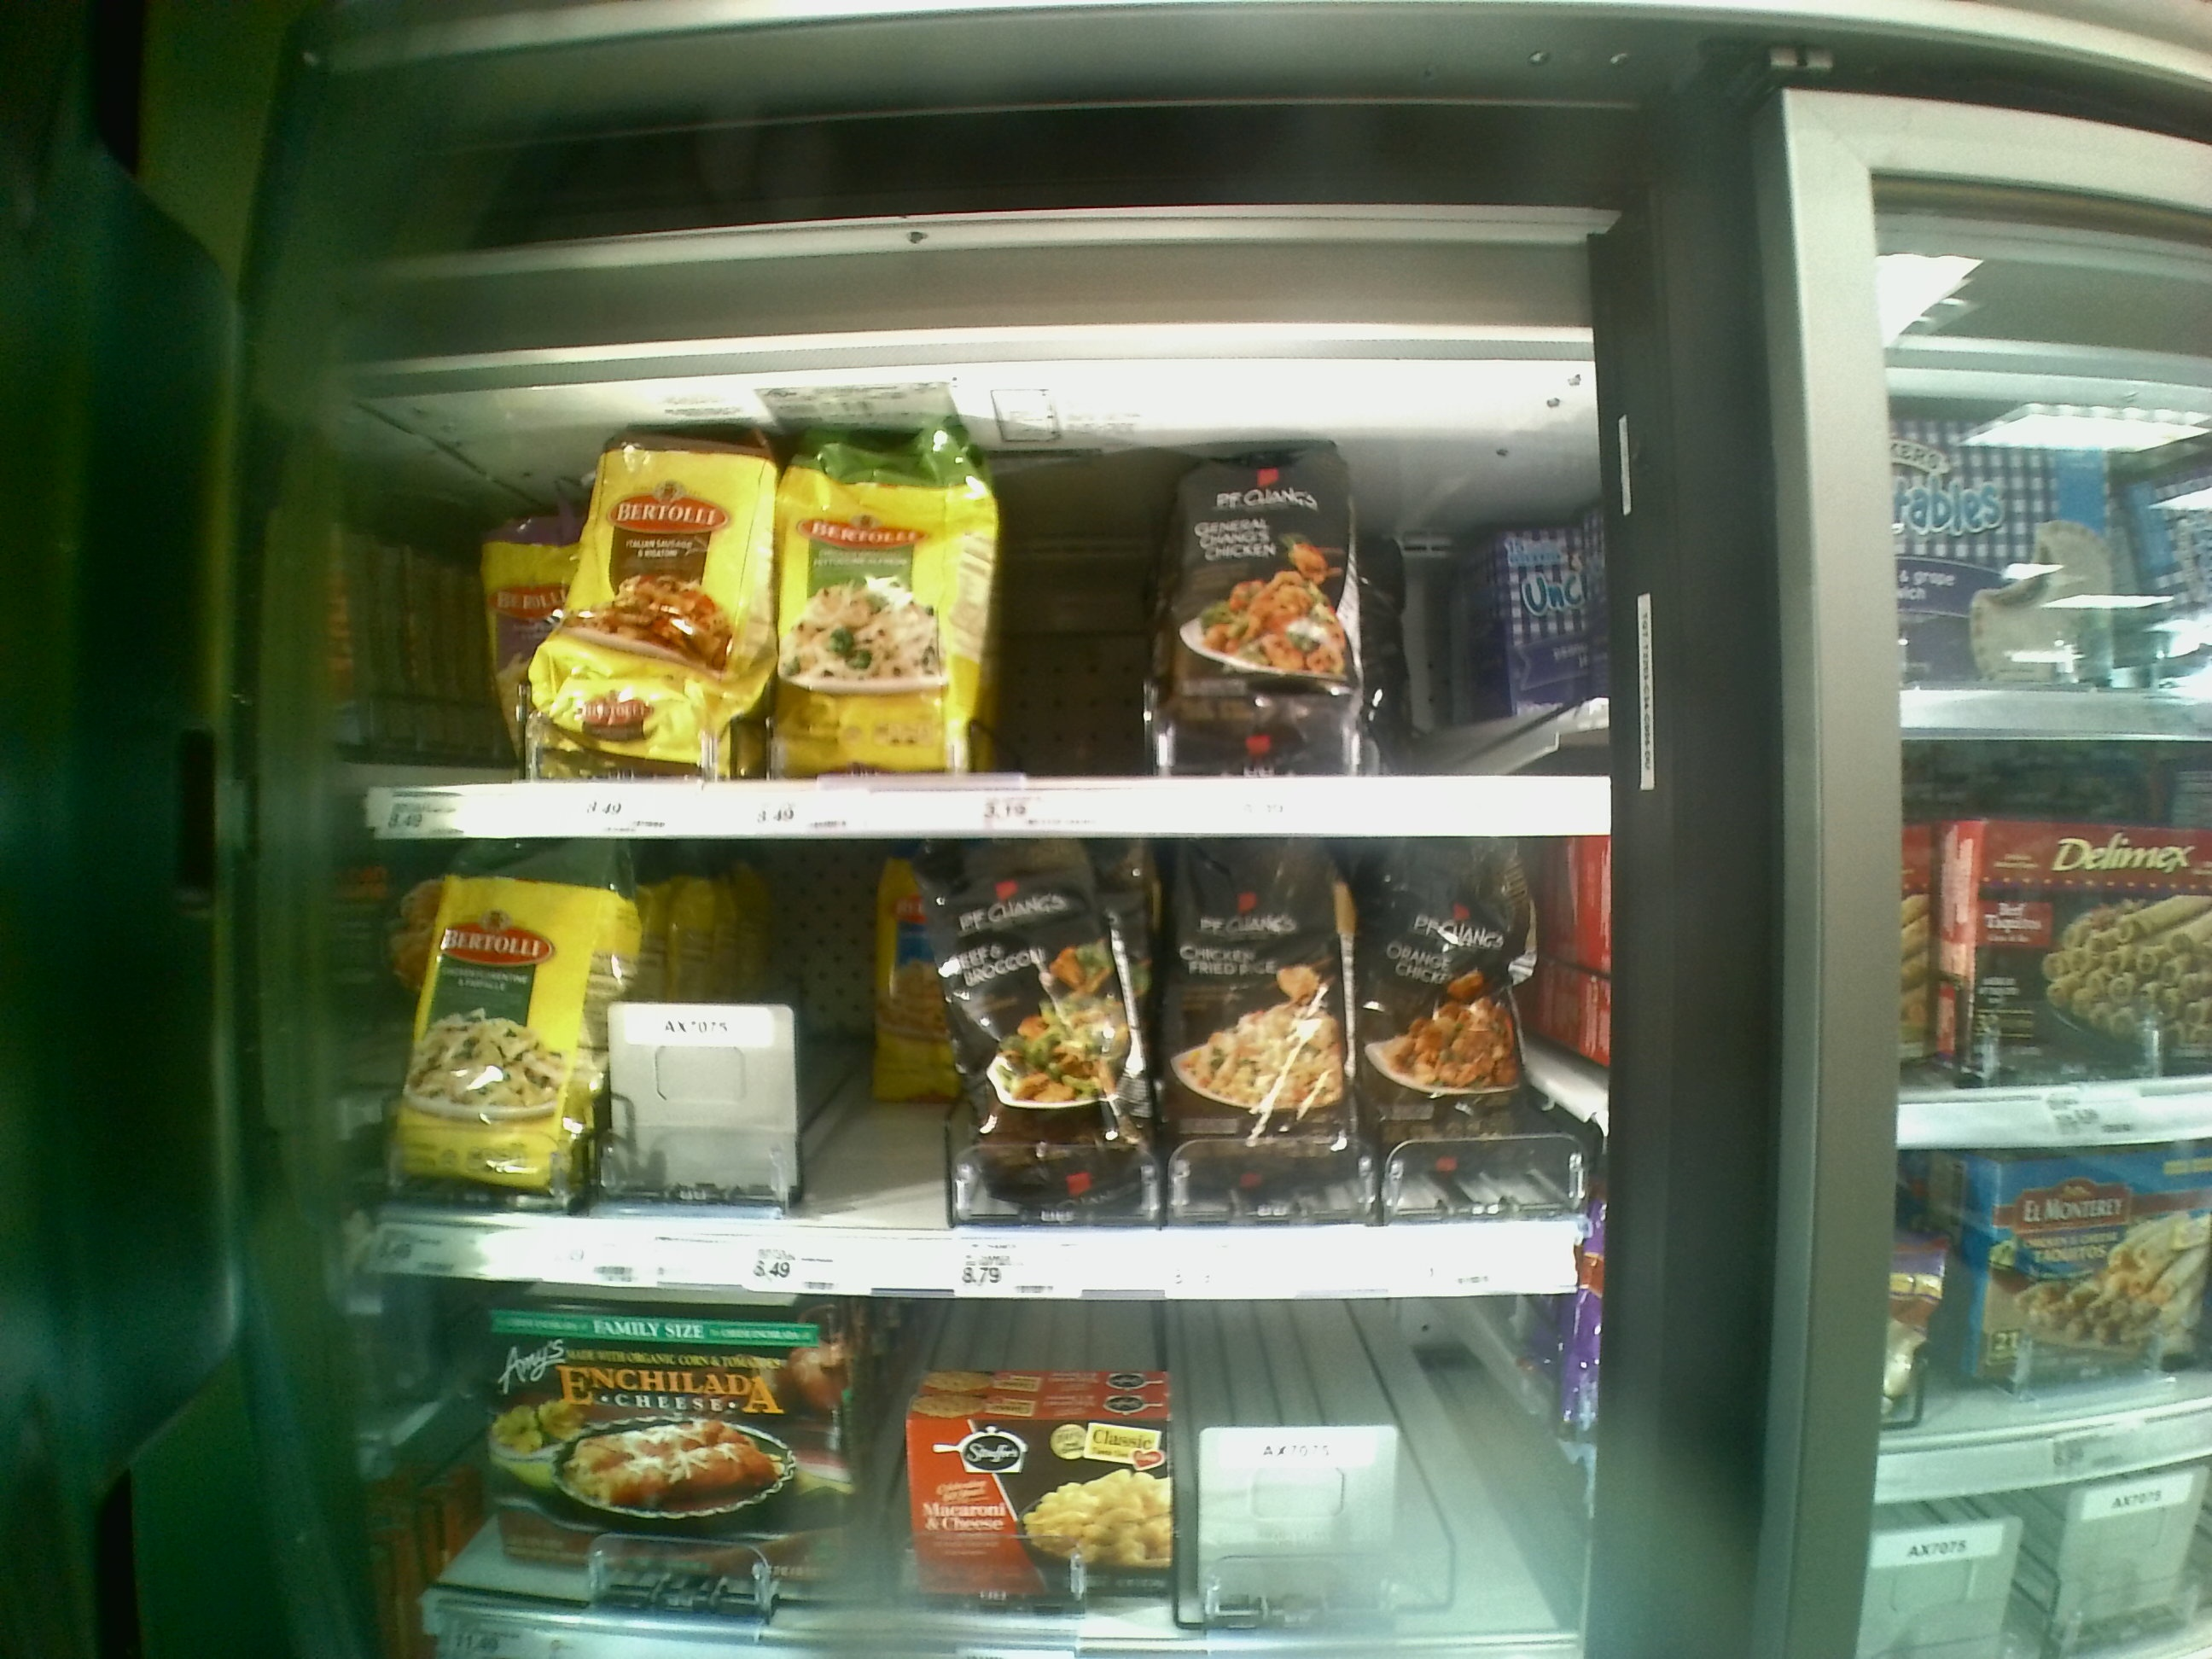shelf: (334, 373, 1616, 842), (345, 838, 1580, 1303), (392, 1277, 1576, 1659)
